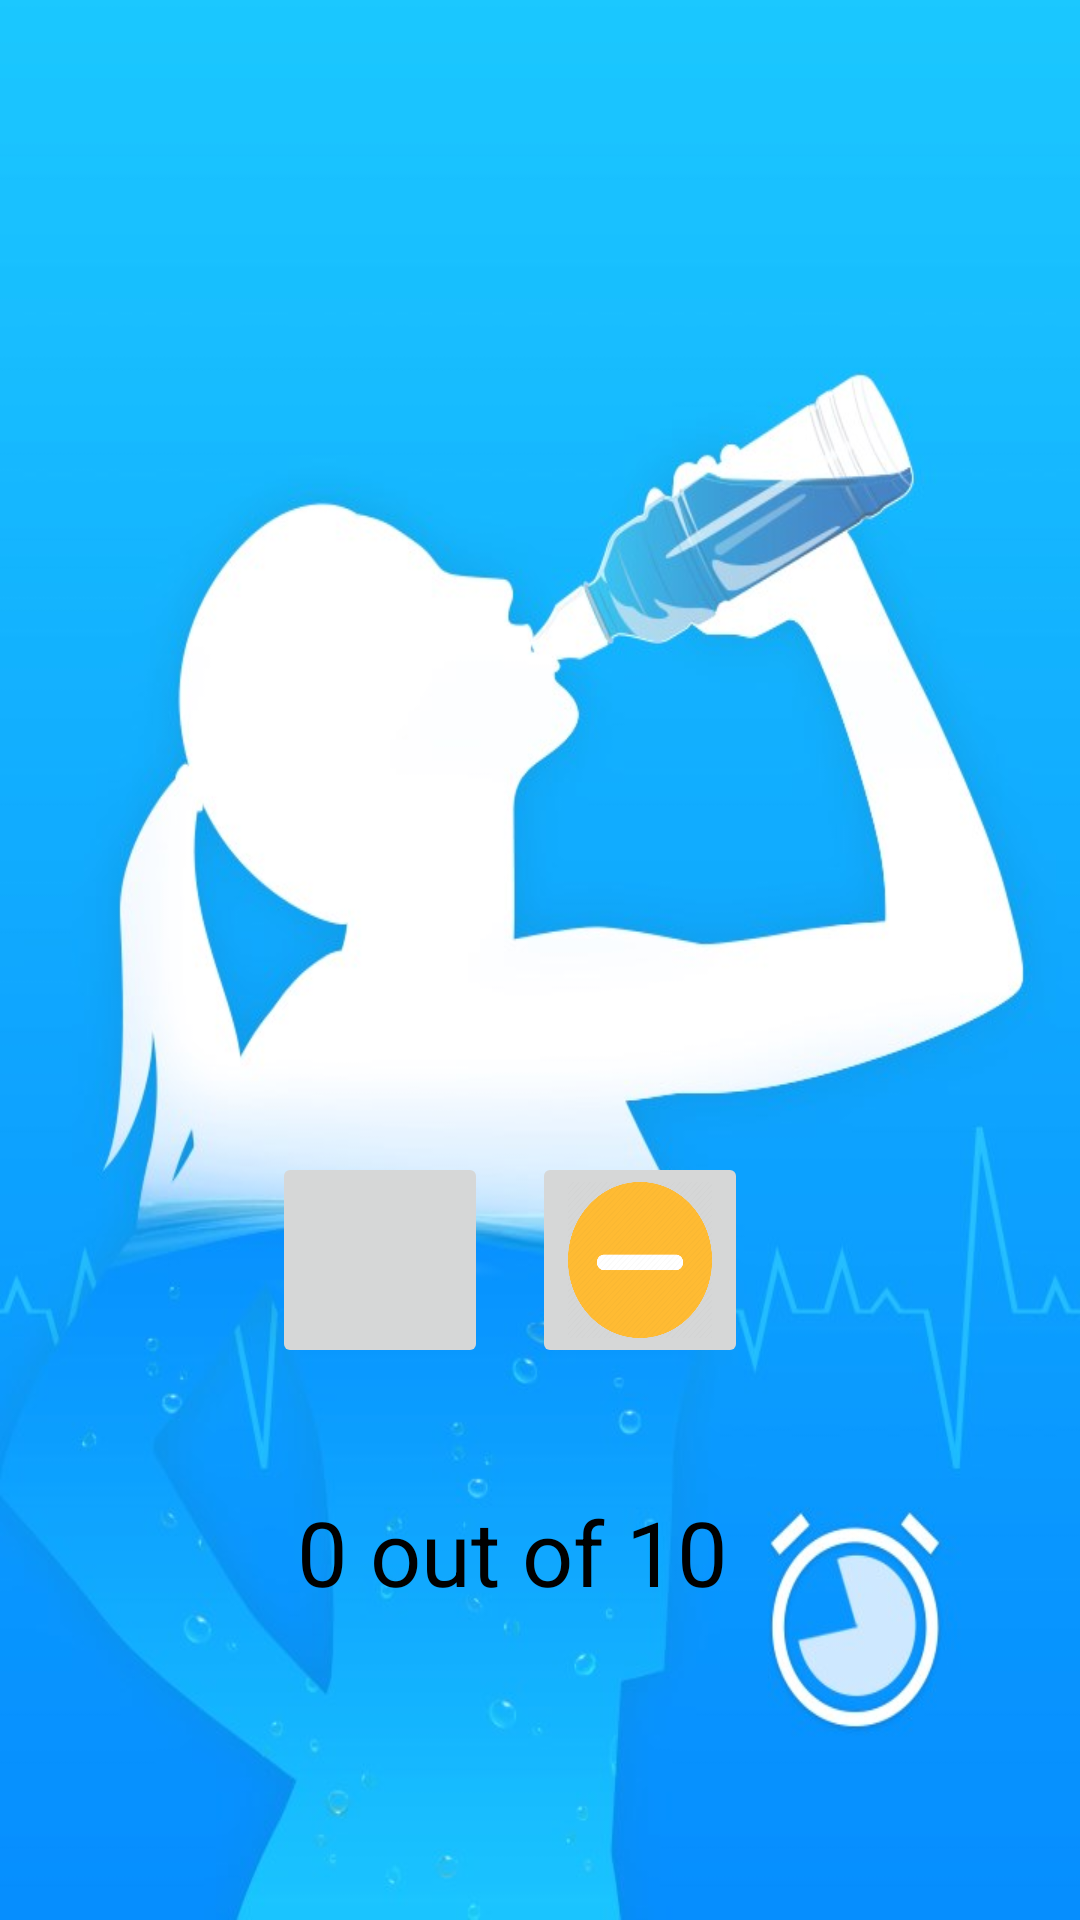

Icons on this 1080×1920 Android screen, each with the point to tap as [x,y]:
minus sign: [640,1258]
